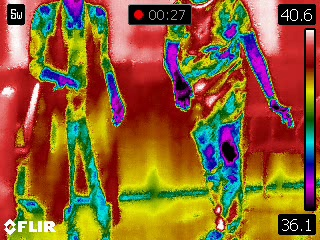human: (162, 1, 296, 240), (28, 1, 129, 239)
